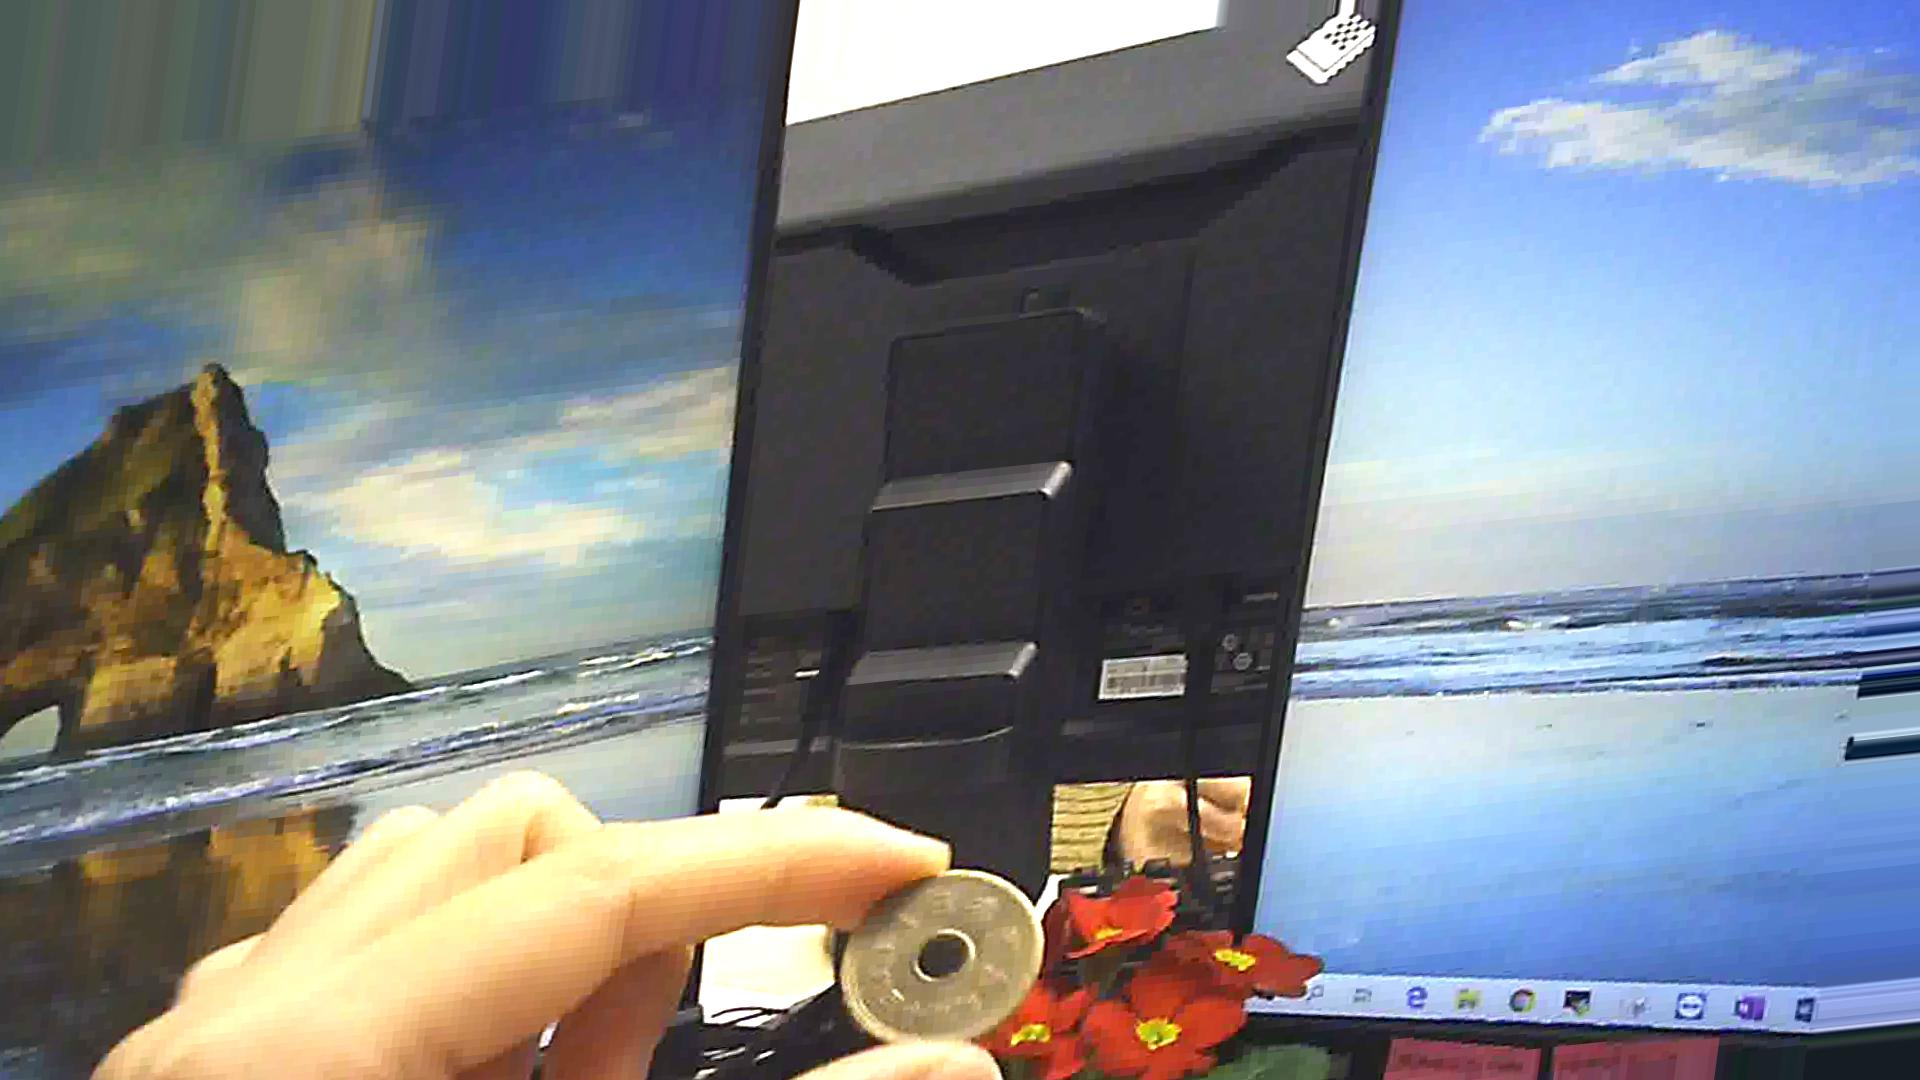5 Yen: (831, 848, 1064, 1040)
